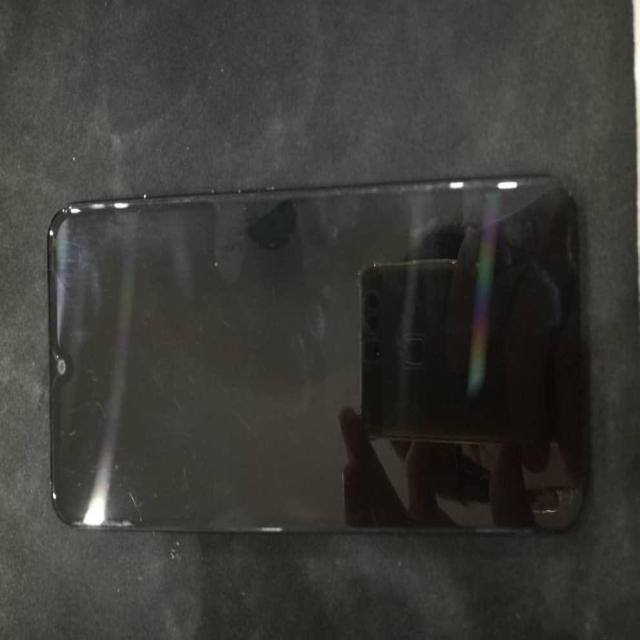mobile phone: (46, 174, 589, 534)
